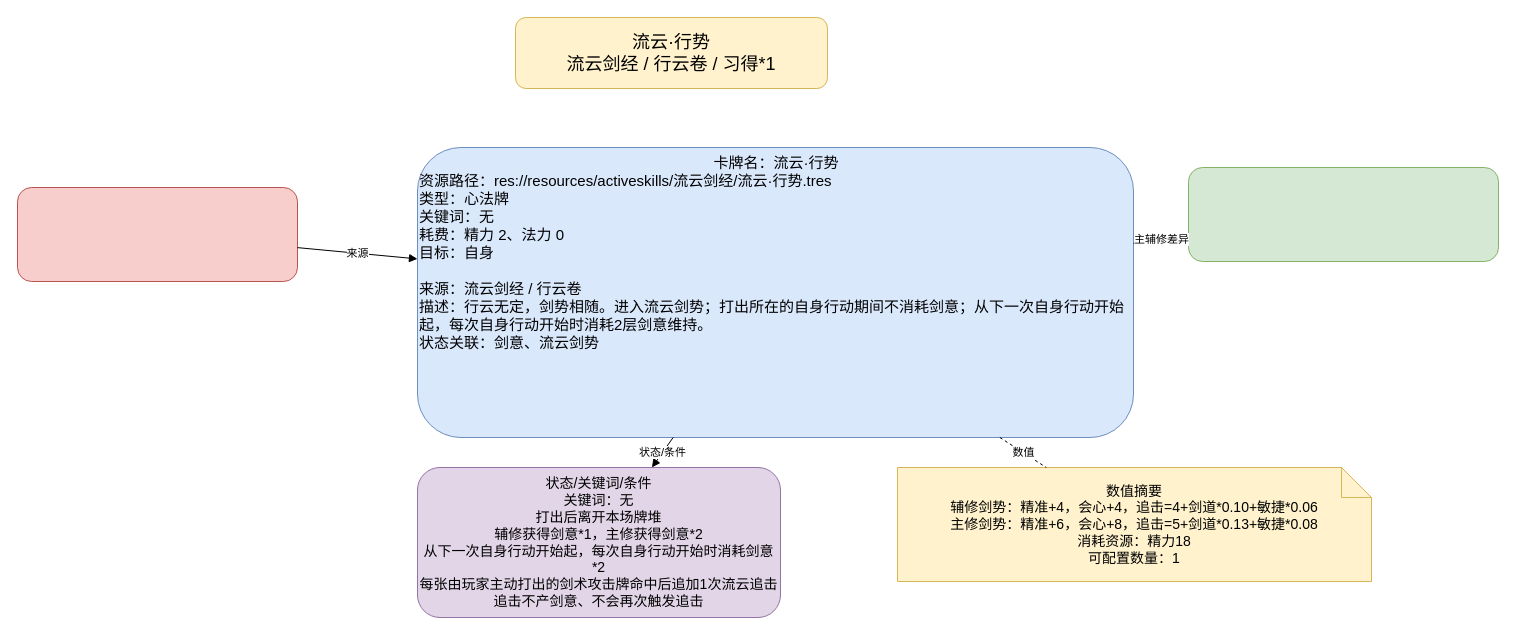
Image size: 1516x635. Some labels were removed from this diagram. Here are the shapes that lost their labels. From the top down, the box of each, then its label:
(16, 186, 298, 282): 习得来源 来源秘籍：流云剑经 来源卷：行云卷 习得数量：1
(1188, 166, 1498, 262): 主修/辅修差异 辅修：获得剑意*1，进入流云剑势（辅修） 主修：获得剑意*2，进入流云剑势（主修） 主修剑势：每次自身行动期间首次使用遁身牌后获得剑意*1
